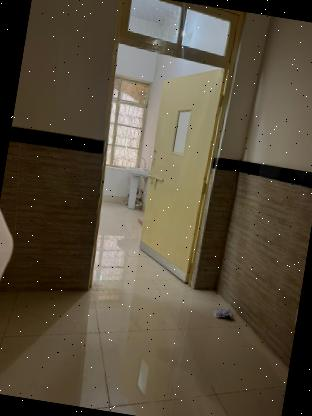door: (67, 0, 252, 306)
